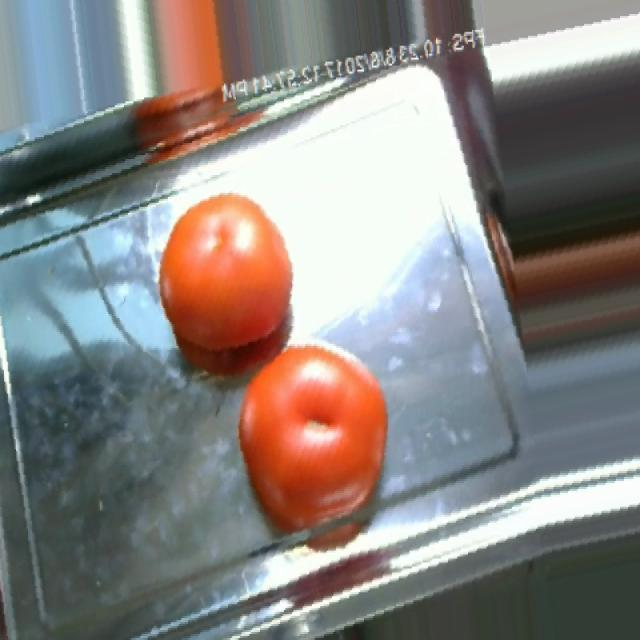kirmizi: (146, 184, 414, 526)
